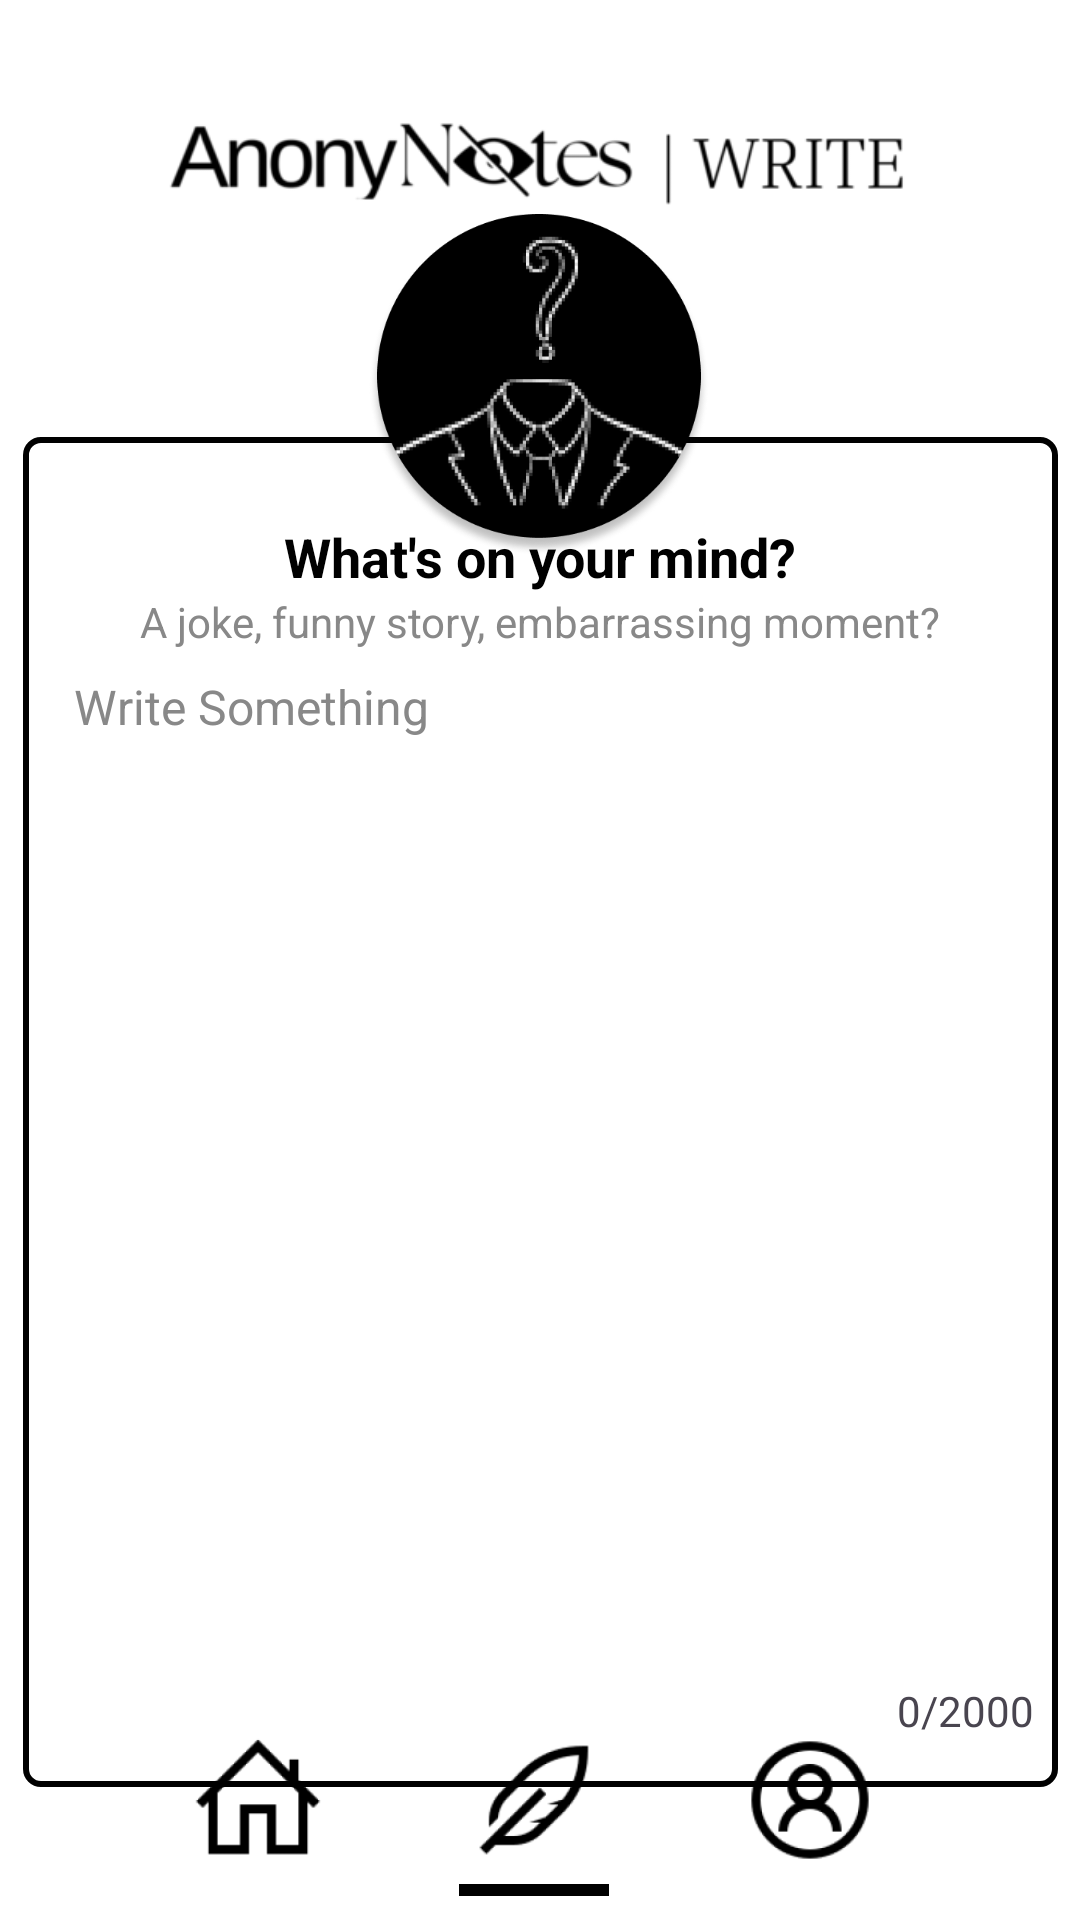

Where icons sit on this 1080 x 1920 app screen, as (x1=x1, y1=y1, x2=x2, y2=y2):
anonymous: (x1=359, y1=214, x2=719, y2=556)
Home: (x1=186, y1=1740, x2=330, y2=1855)
Quill: (x1=462, y1=1745, x2=606, y2=1855)
User: (x1=738, y1=1741, x2=882, y2=1859)
